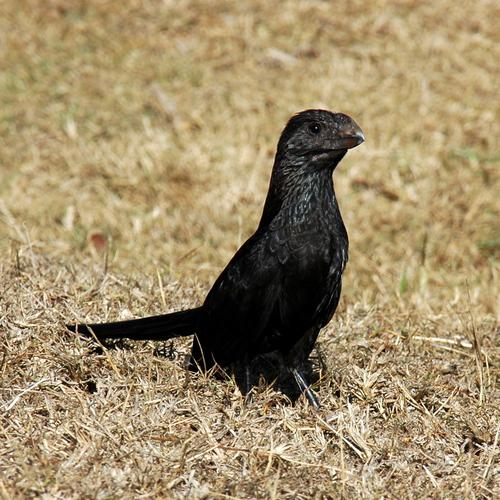004.Groove_billed_Ani: (65, 106, 368, 411)
